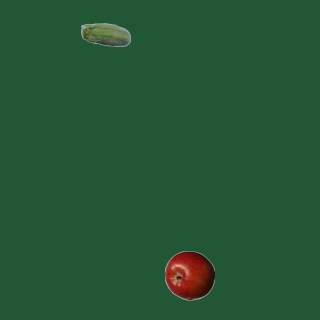Apple Braeburn: (164, 250, 214, 300)
Corn Husk: (80, 11, 130, 61)
